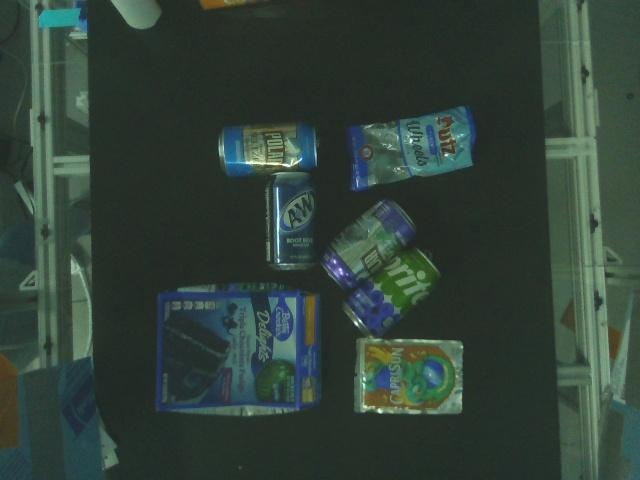cardboard: (150, 278, 327, 421), (107, 0, 167, 33), (192, 0, 273, 14)
metal: (335, 241, 446, 340), (317, 195, 421, 295), (213, 116, 327, 181), (261, 170, 321, 274)
plastic: (340, 99, 483, 195), (349, 335, 467, 417)
